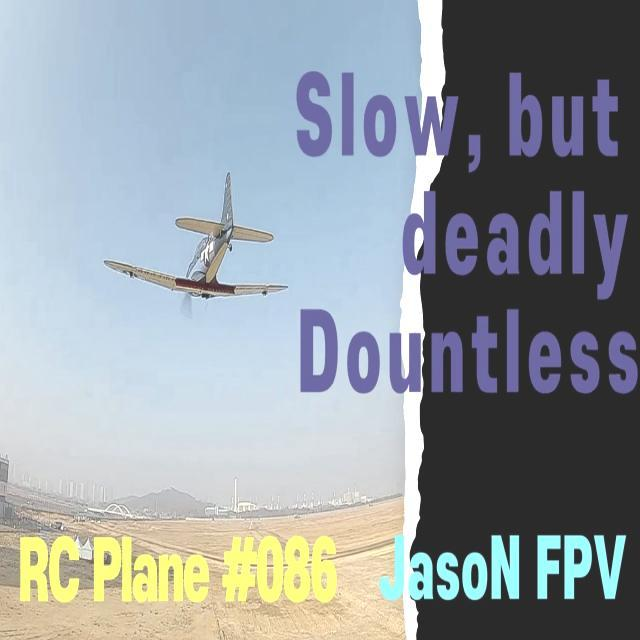iha: (102, 170, 294, 319)
